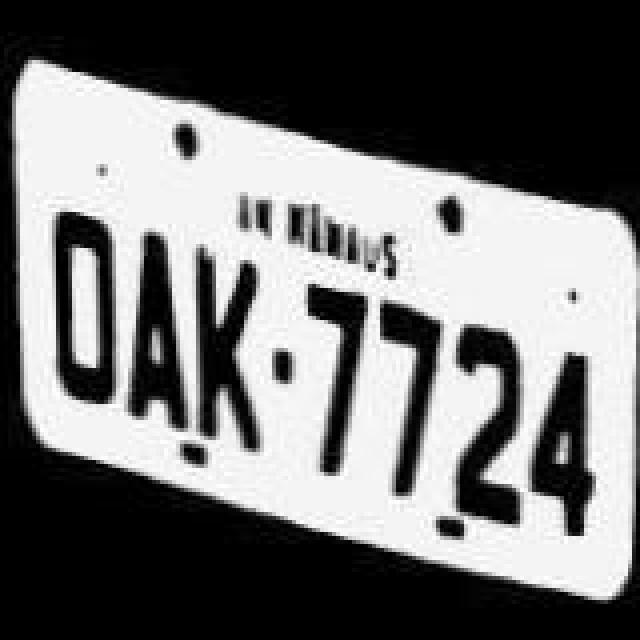2: (438, 318, 526, 534)
4: (524, 348, 612, 548)
7: (372, 292, 456, 504), (300, 278, 376, 490)
A: (114, 222, 198, 438)
K: (184, 234, 264, 458)
O: (48, 208, 128, 424)
